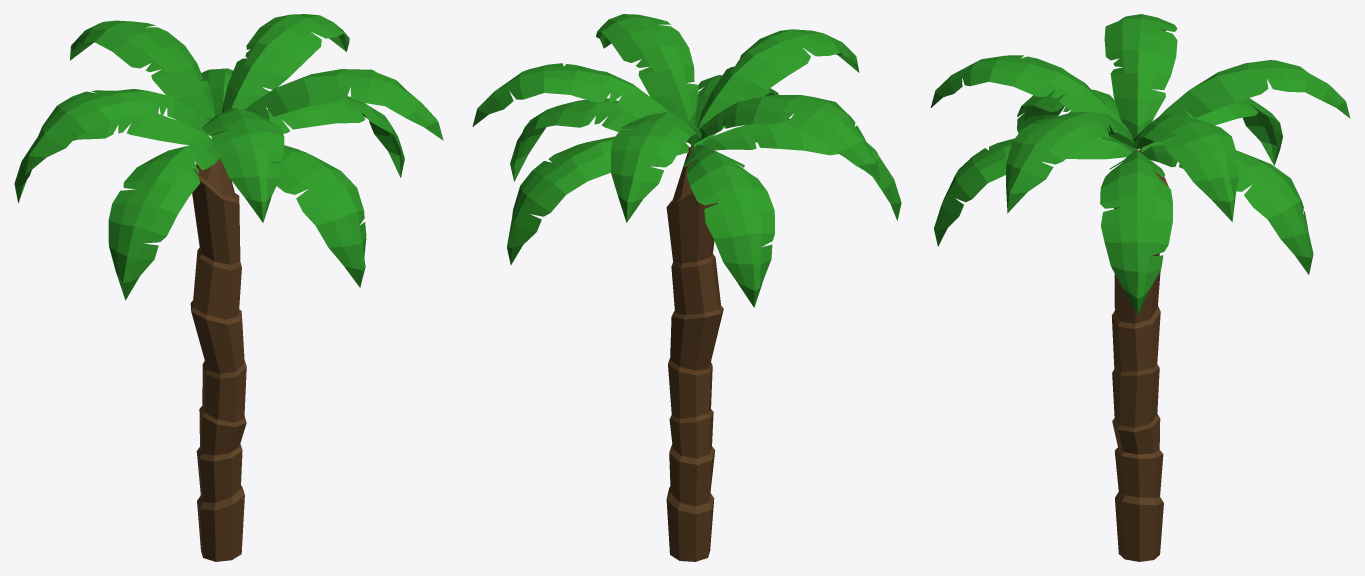
The model's file is palma.fbx.
The picture shows the model from 3 angles, left to right: view 1: azimuth 30°, elevation 25°; view 2: azimuth 150°, elevation 25°; view 3: azimuth 270°, elevation 25°; orthographic projection. The views are drawn at different scales.
Parts seen in each view (by area): view 1: Plane.004; view 2: Plane.004; view 3: Plane.004.
Part boxes in pixels (x1,y1,x2,y2): Plane.004: (14, 14, 443, 561); Plane.004: (472, 14, 901, 561); Plane.004: (930, 14, 1350, 561).
Size of the model in its own units: 675 by 829 by 665.
